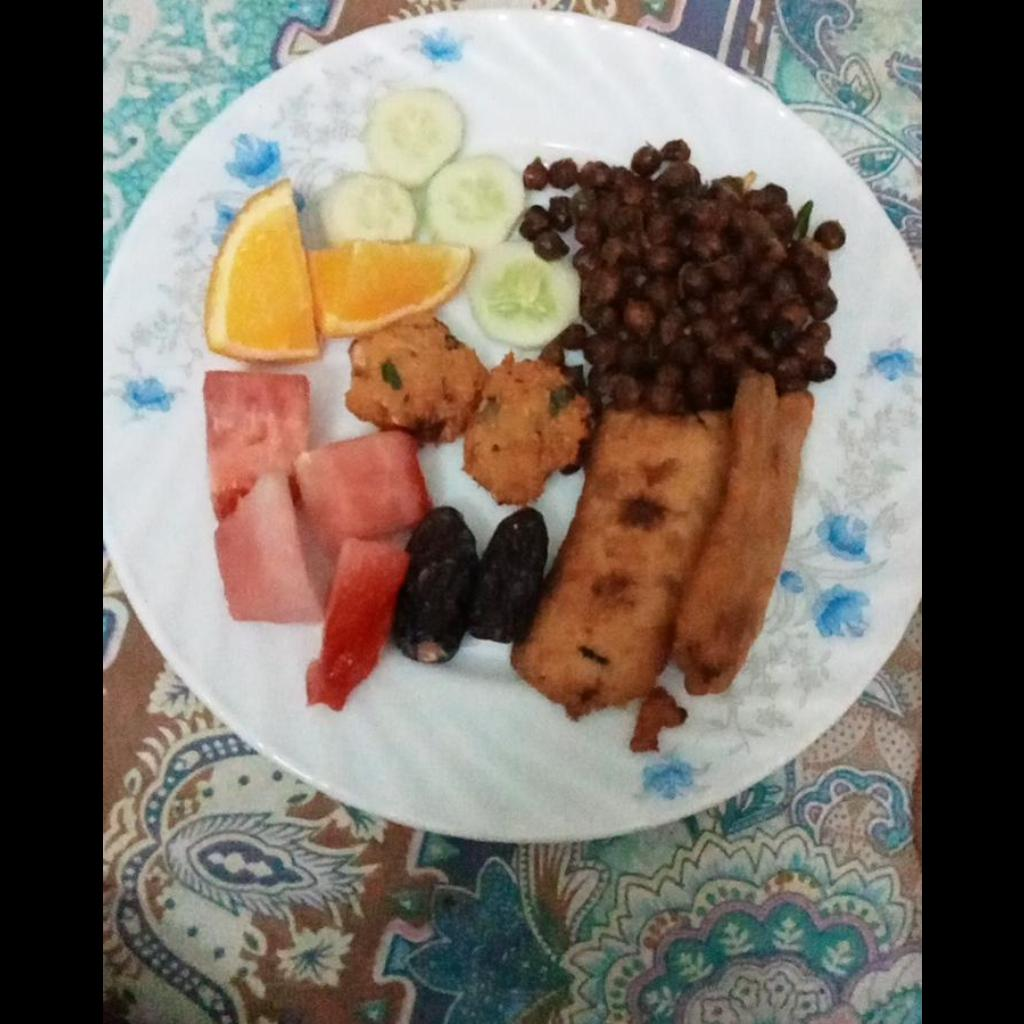beguni: (512, 377, 808, 713)
chola: (519, 135, 844, 409)
cucumber: (317, 88, 576, 351)
dates: (391, 507, 547, 663)
orange: (202, 179, 465, 369)
peyaju: (342, 312, 594, 505)
watermelon: (198, 373, 424, 713)
